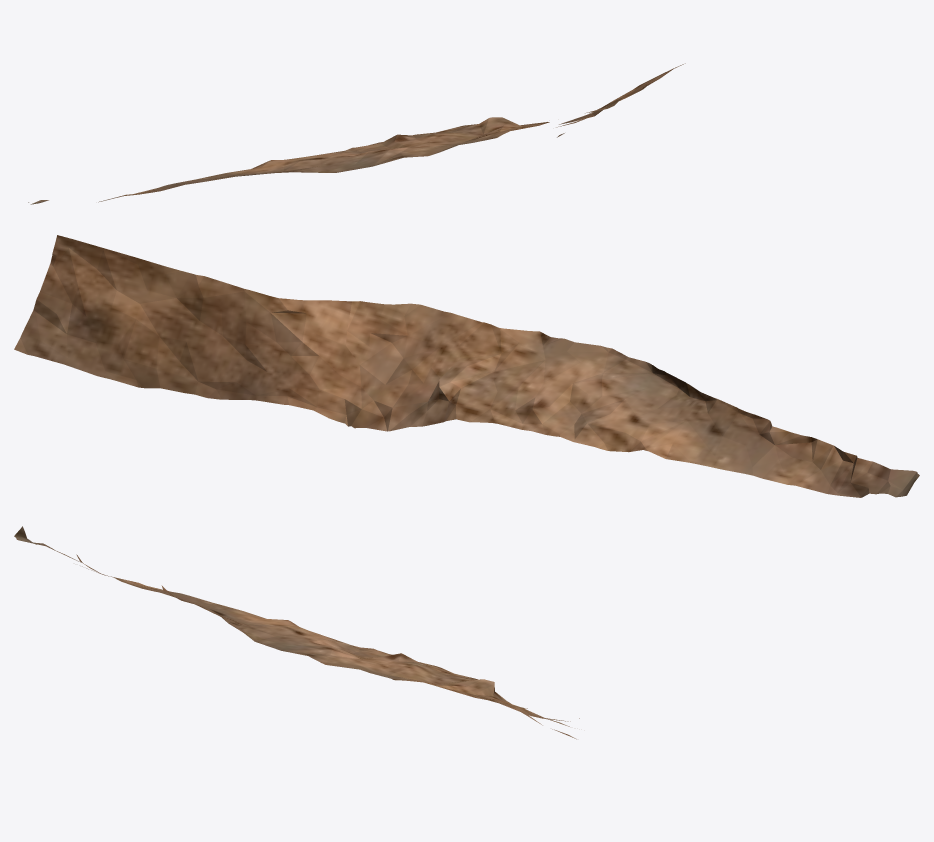
3 renders of one model, top to bottom at view 1: azimuth 30°, elevation 25°; view 2: azimuth 150°, elevation 25°; view 3: azimuth 330°, elevation 25°, orthographic. The views are drawn at different scales.
Bounding box in the file's own units: 4.64 × 0.4471 × 0.5879.
1 material, 1 textured.
